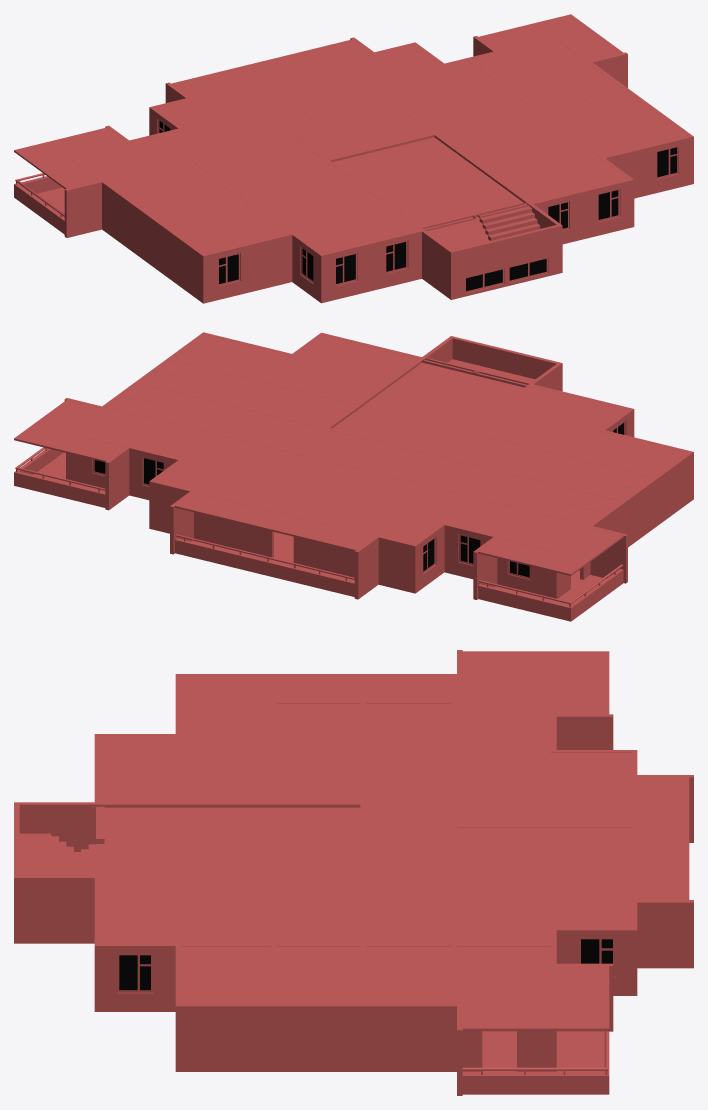
File: SM_house_section_2.fbx
3 renders of one model, top to bottom at view 1: azimuth 30°, elevation 25°; view 2: azimuth 150°, elevation 25°; view 3: azimuth 270°, elevation 25°, orthographic. The views are drawn at different scales.
Parts seen in each view (by area): view 1: Boole_13; view 2: Boole_13; view 3: Boole_13.
Boxes of the visible parts, x1,y1,x2,y2 form: Boole_13: (14, 14, 693, 303); Boole_13: (14, 332, 693, 621); Boole_13: (14, 650, 693, 1095).
Size of the model in its own units: 3100 by 250 by 2343.
